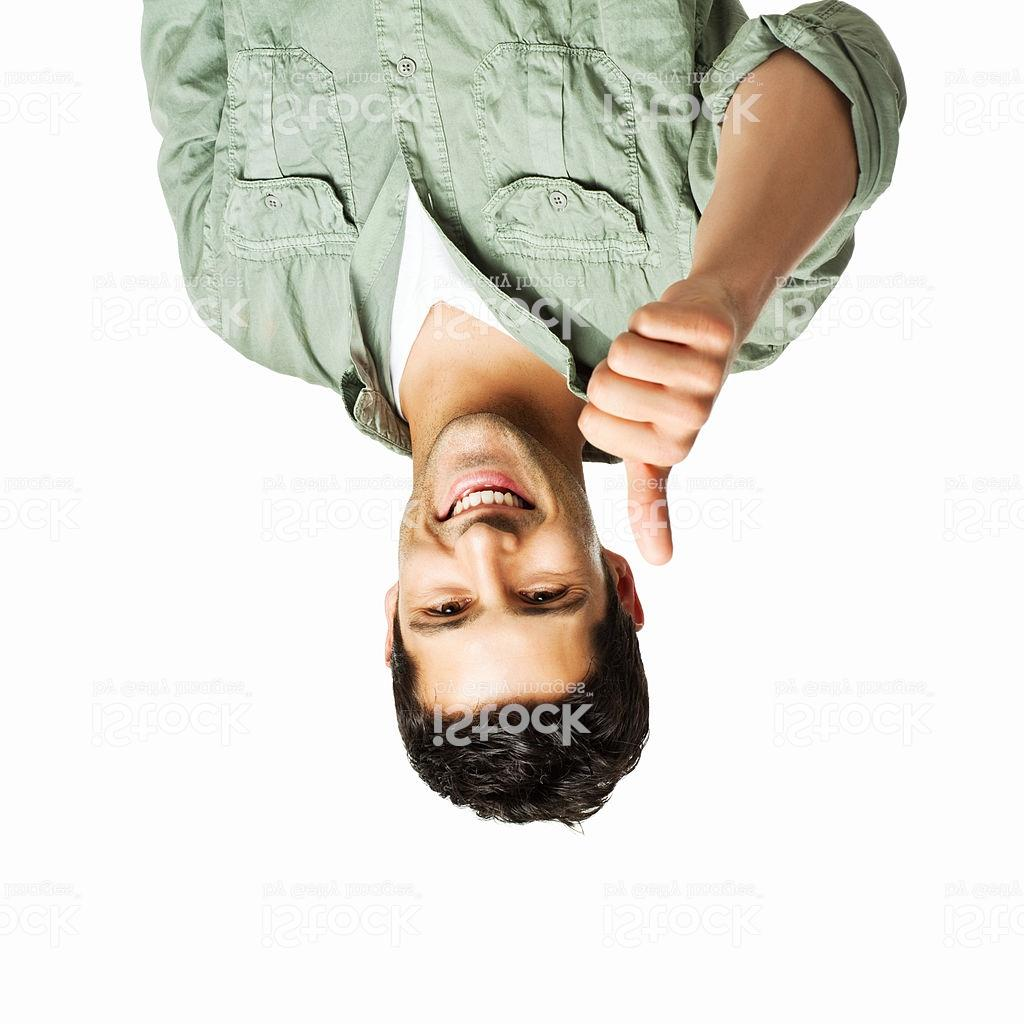thumbsdown: (576, 296, 734, 567)
